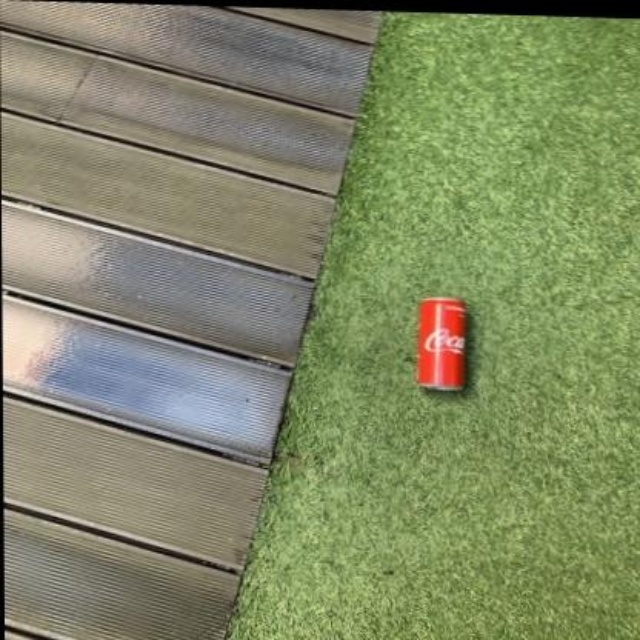trash: (418, 297, 466, 389)
